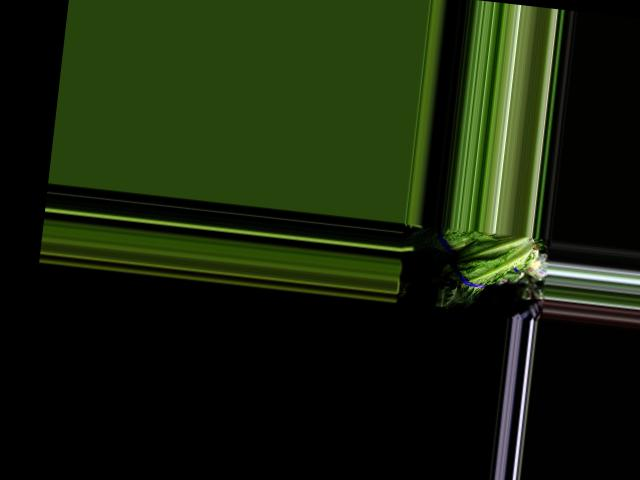lettuce: (429, 226, 529, 311)
